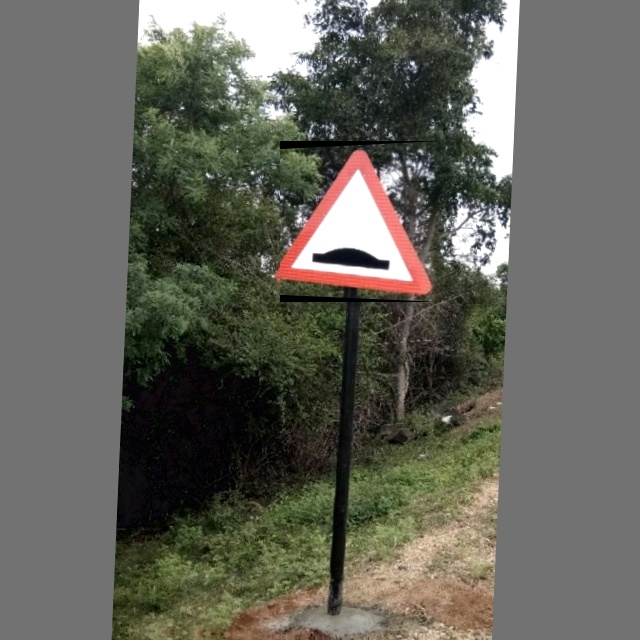Dangerous_Dip: (280, 141, 440, 302)
